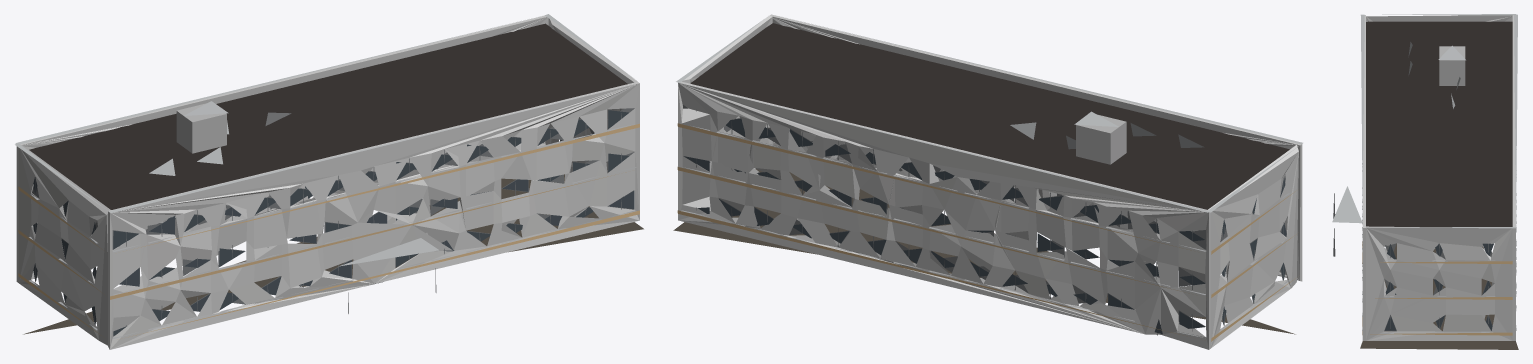
Rendered from school-lod1.glb.
3 views of the same model, side by side, from view 1: azimuth 30°, elevation 25°; view 2: azimuth 150°, elevation 25°; view 3: azimuth 270°, elevation 25° (orthographic). The views are drawn at different scales.
Visible parts, largest first — view 1: school-plaster0.001; view 2: school-plaster0.001; view 3: school-plaster0.001.
Part boxes in pixels (box(x1,y1,x2,y2)): school-plaster0.001: box(15, 14, 643, 349); school-plaster0.001: box(673, 14, 1302, 349); school-plaster0.001: box(1332, 14, 1518, 349).
Bounding box in the file's own units: 49.81 × 14.32 × 17.06.
